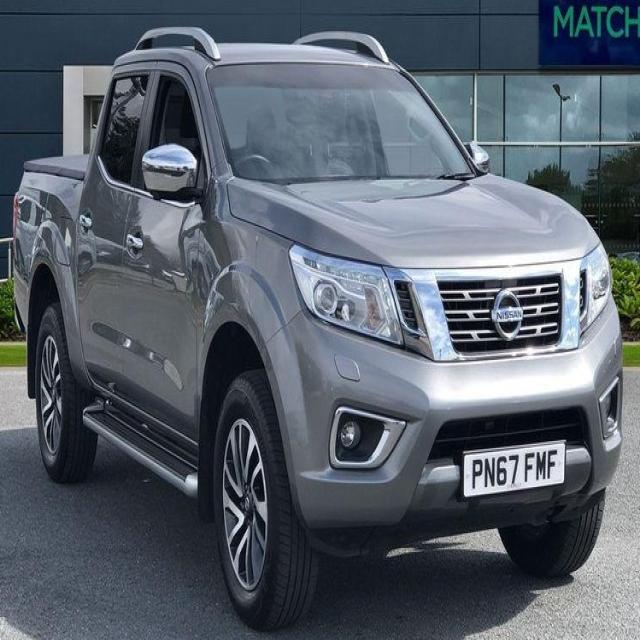CMT: (14, 29, 620, 599)
